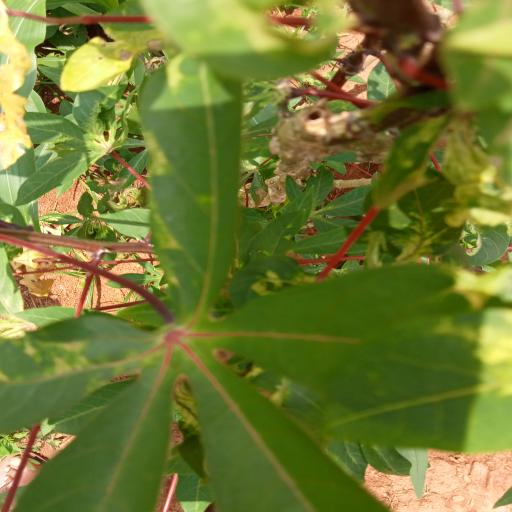Cassava_Healthy: (4, 275, 512, 511)
